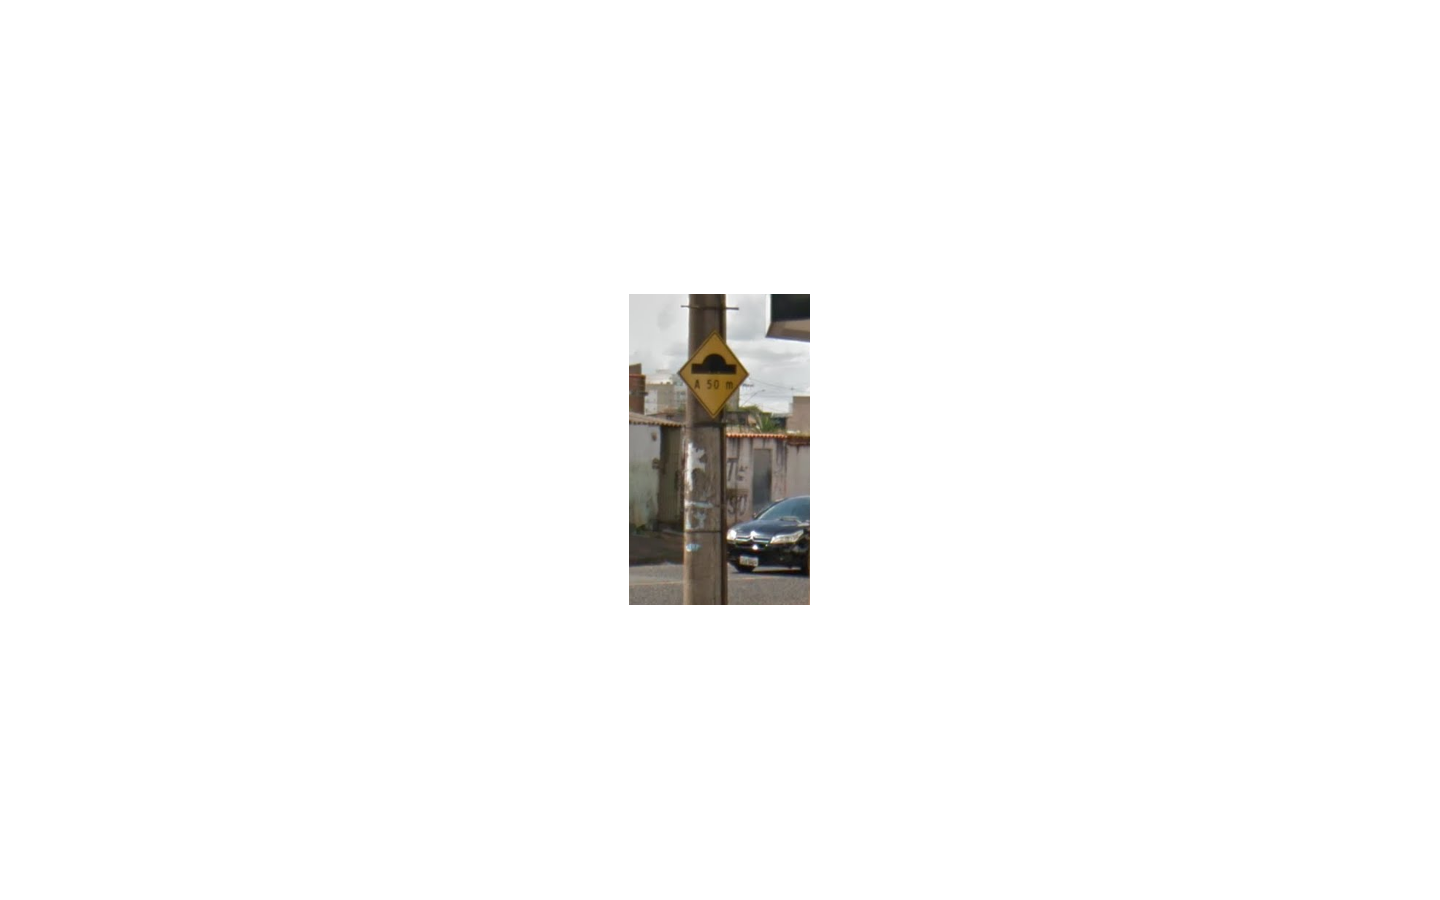l50m: (677, 328, 750, 418)
